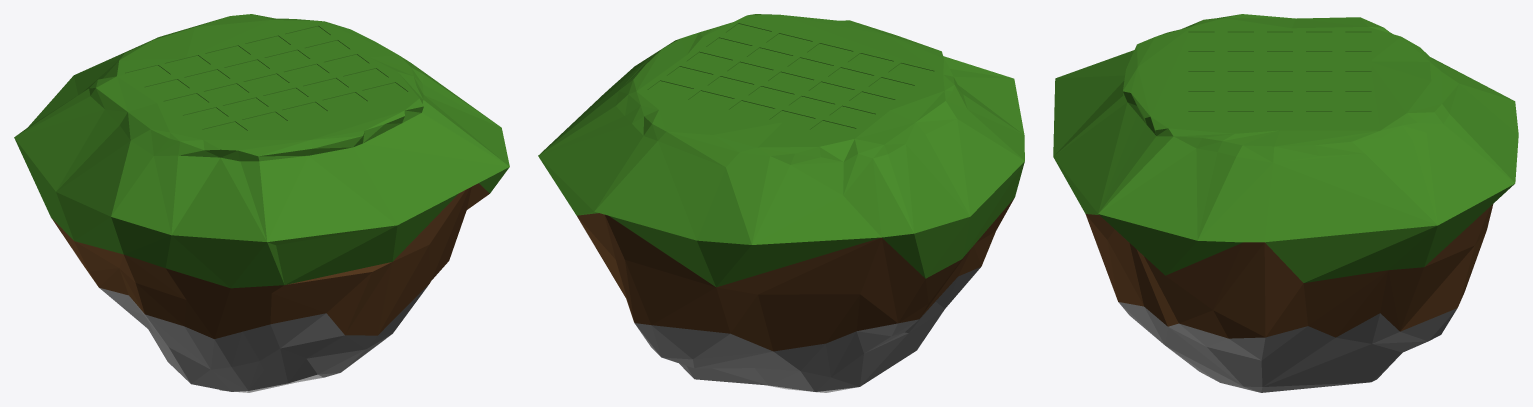
File: world3.fbx
3 renders of one model, left to right at view 1: azimuth 30°, elevation 25°; view 2: azimuth 150°, elevation 25°; view 3: azimuth 270°, elevation 25°, orthographic.
Visible parts, largest first — view 1: Cube.071; view 2: Cube.071; view 3: Cube.071.
Boxes of the visible parts, x1,y1,x2,y2 form: Cube.071: (14,14,509,392); Cube.071: (538,14,1024,392); Cube.071: (1053,14,1518,392).
Bounding box in the file's own units: 9731 × 7176 × 9924.
